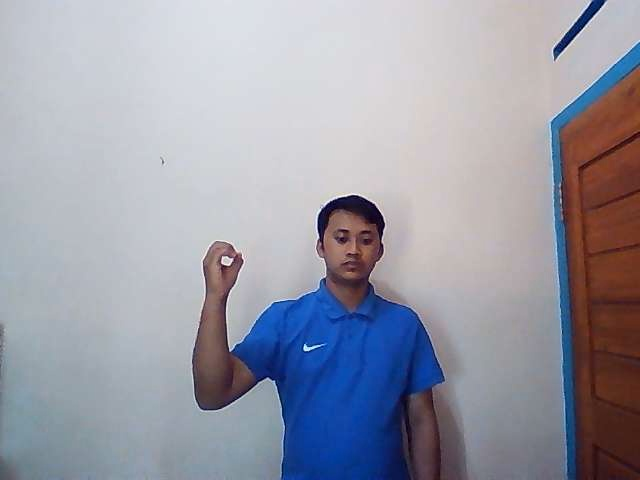O: (200, 238, 245, 296)
